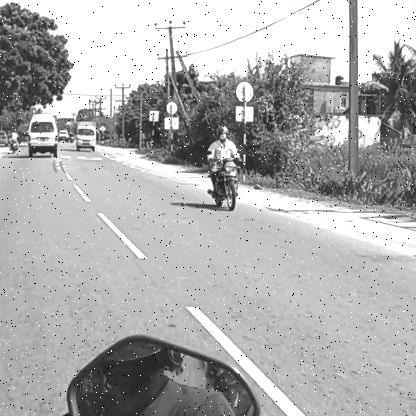motorcycle: (201, 155, 248, 214)
